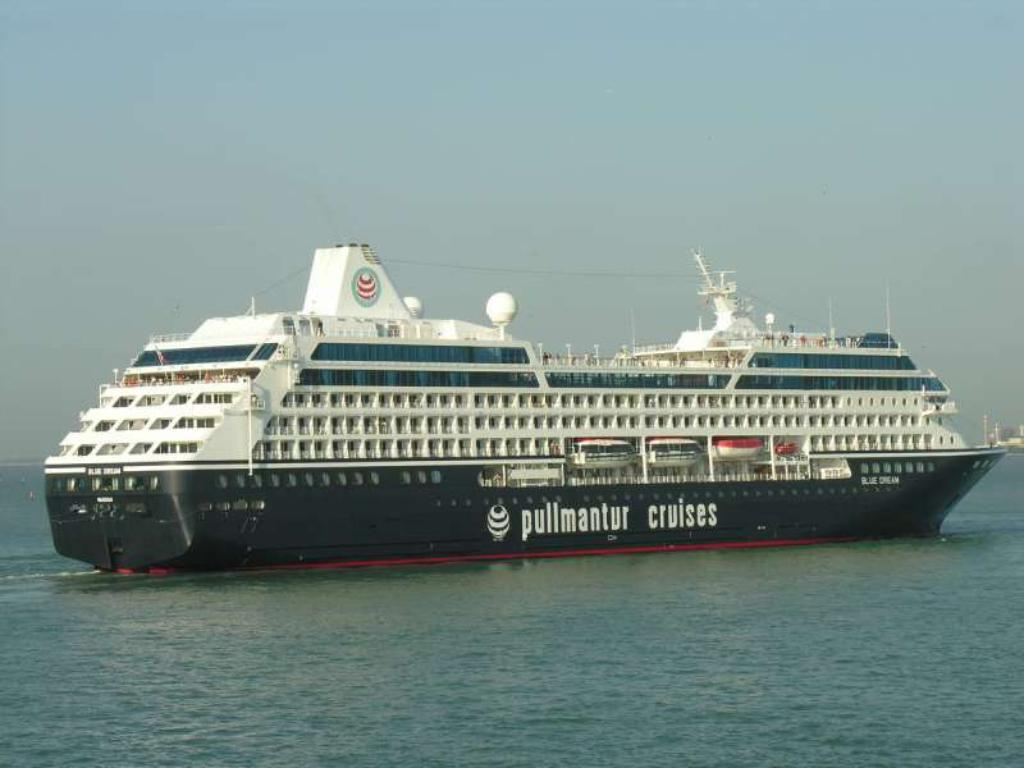PassengerShip: (32, 262, 1016, 566)
